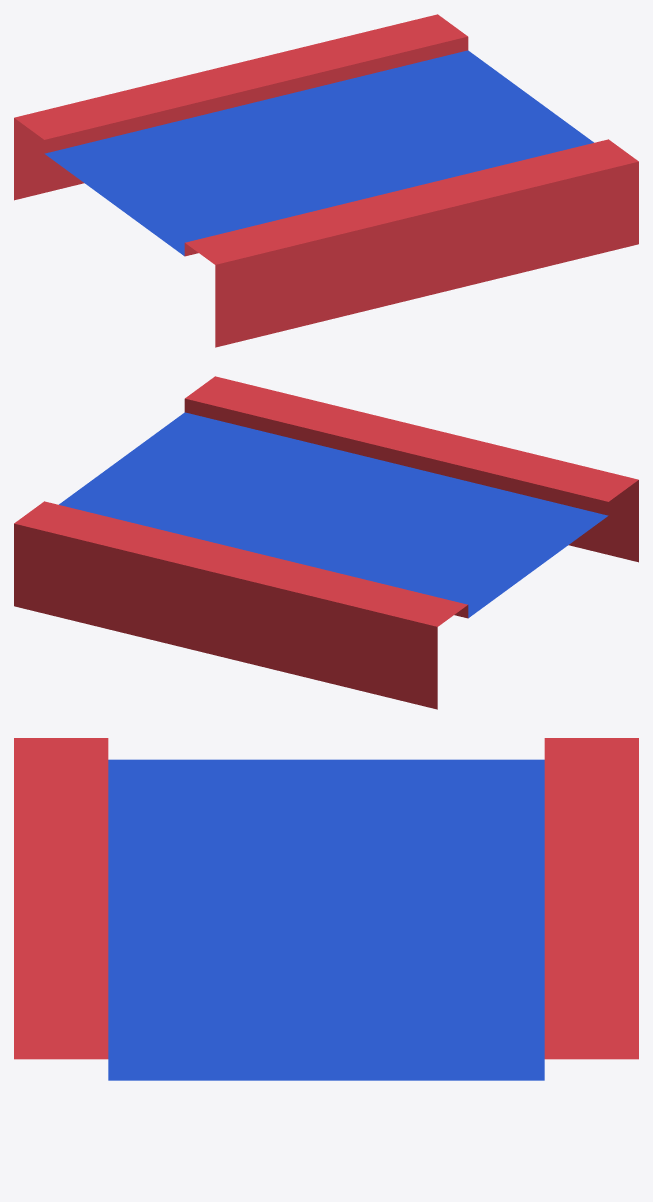
File: line_straight.fbx
The picture shows the model from 3 angles, top to bottom: view 1: azimuth 30°, elevation 25°; view 2: azimuth 150°, elevation 25°; view 3: azimuth 270°, elevation 25°; orthographic projection. The views are drawn at different scales.
Parts seen in each view (by area): view 1: Cube; view 2: Cube; view 3: Cube.
Boxes of the visible parts, x1=… form: Cube: x1=14, y1=14, x2=638, y2=347; Cube: x1=14, y1=376, x2=638, y2=709; Cube: x1=14, y1=738, x2=638, y2=1080.
Bounding box in the file's own units: 109 × 20.4 × 89.95.
